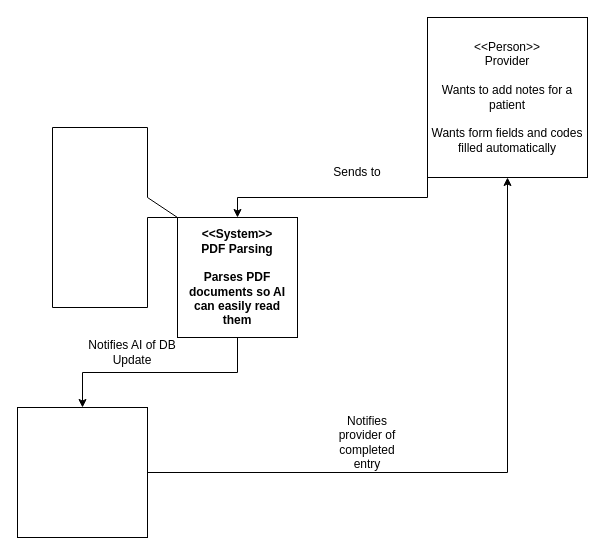
The diagram is 605 pixels wide and 555 high, and some of its shapes have lost their labels. The centre of each missing label's shape, as x and y in pixels:
<<System>> Interpretation Fills billing entry based on data received: the point at 82,472
This is the piece of the Domain Model I am constructing: the point at 115,217
